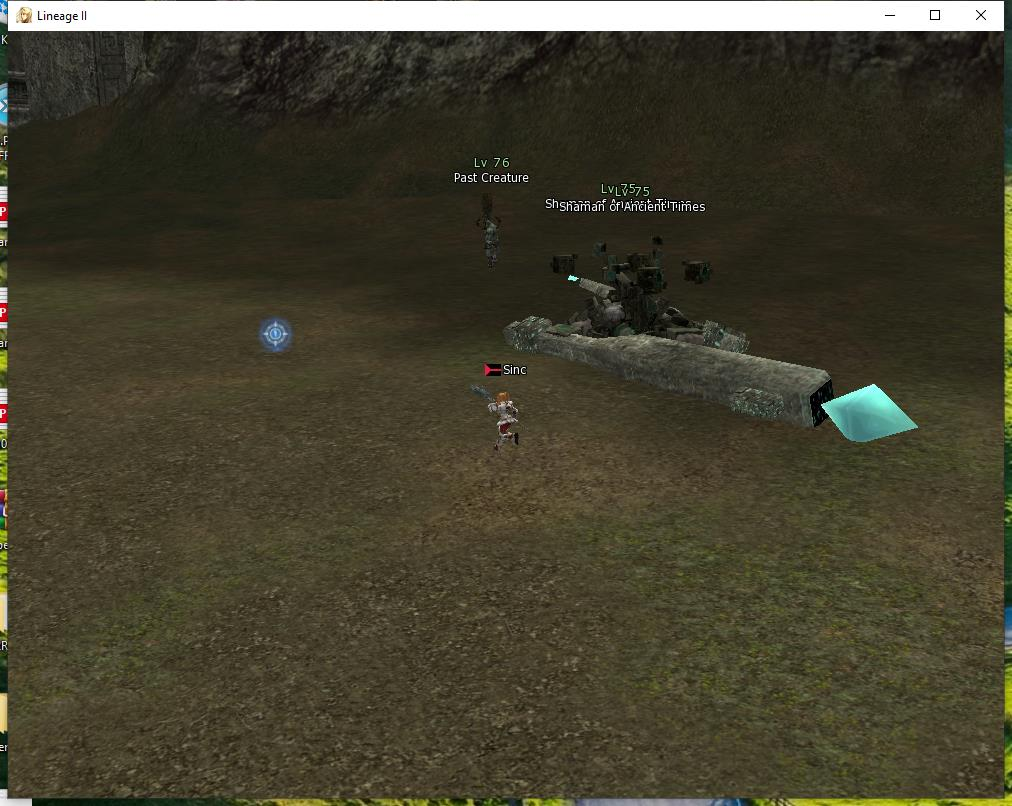monster: (550, 186, 715, 378), (457, 152, 528, 274)
